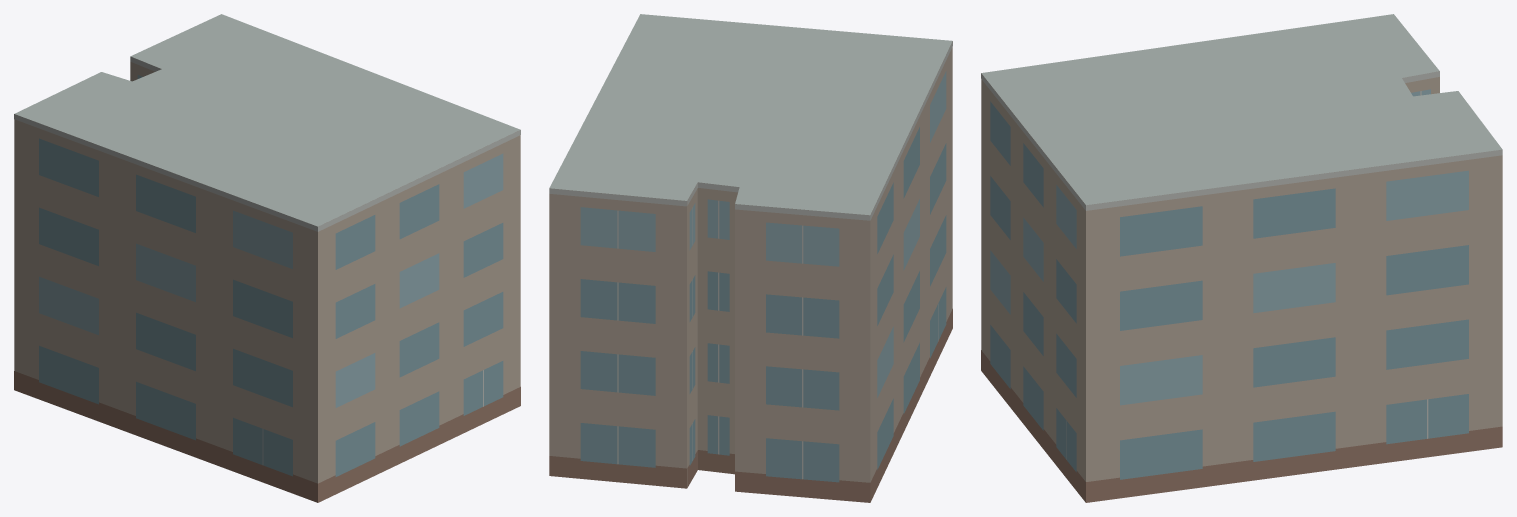
Rendered from survey-upis-32934691.glb.
3 renders of one model, left to right at view 1: azimuth 30°, elevation 25°; view 2: azimuth 150°, elevation 25°; view 3: azimuth 270°, elevation 25°, orthographic. The views are drawn at different scales.
Parts seen in each view (by area): view 1: survey-upis-32934691.tmp; view 2: survey-upis-32934691.tmp; view 3: survey-upis-32934691.tmp.
Part boxes in pixels (x1,y1,x2,y2): survey-upis-32934691.tmp: [14, 14, 520, 502]; survey-upis-32934691.tmp: [549, 14, 952, 502]; survey-upis-32934691.tmp: [981, 14, 1502, 502].
Size of the model in its own units: 17.58 by 12.75 by 20.26.
